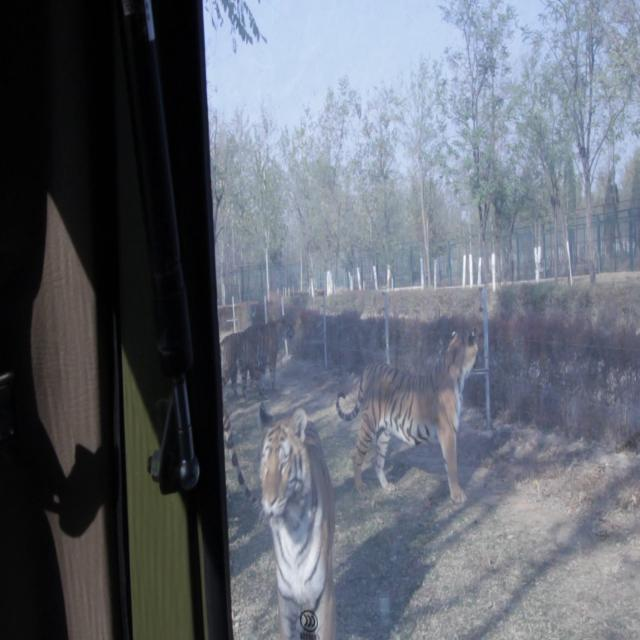Tiger: (328, 309, 498, 520), (253, 390, 338, 639), (247, 308, 301, 390), (219, 328, 249, 392)
